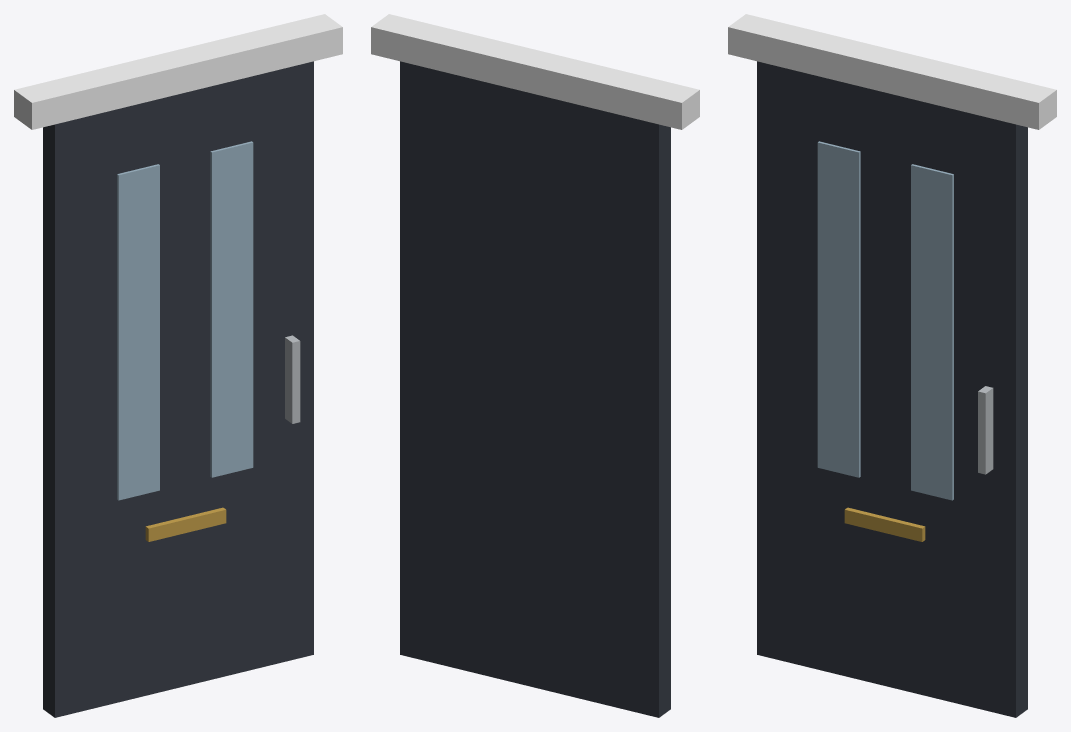
The model's file is front_door.glb.
The picture shows the model from 3 angles, left to right: view 1: azimuth 30°, elevation 25°; view 2: azimuth 150°, elevation 25°; view 3: azimuth 330°, elevation 25°; orthographic projection.
Parts seen in each view (by area): view 1: front_door; view 2: front_door; view 3: front_door.
Part boxes in pixels (<box>): front_door: <box>14,14,342,717</box>; front_door: <box>371,14,699,717</box>; front_door: <box>728,14,1056,717</box>.
Size of the model in its own units: 1.2 by 2.3 by 0.155.
